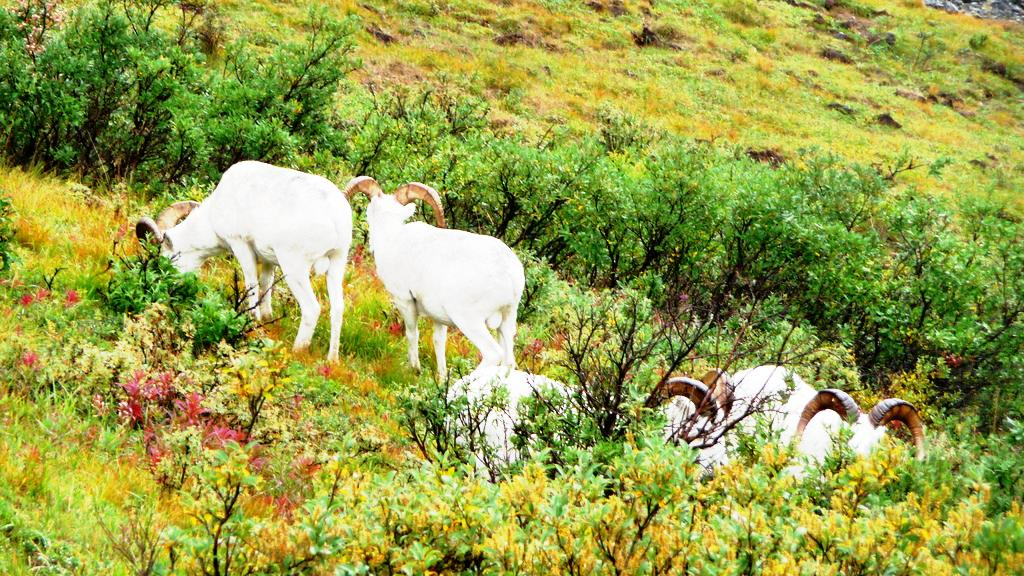Sheep: (133, 160, 354, 366), (345, 183, 526, 383), (438, 368, 736, 474), (732, 364, 928, 480)
